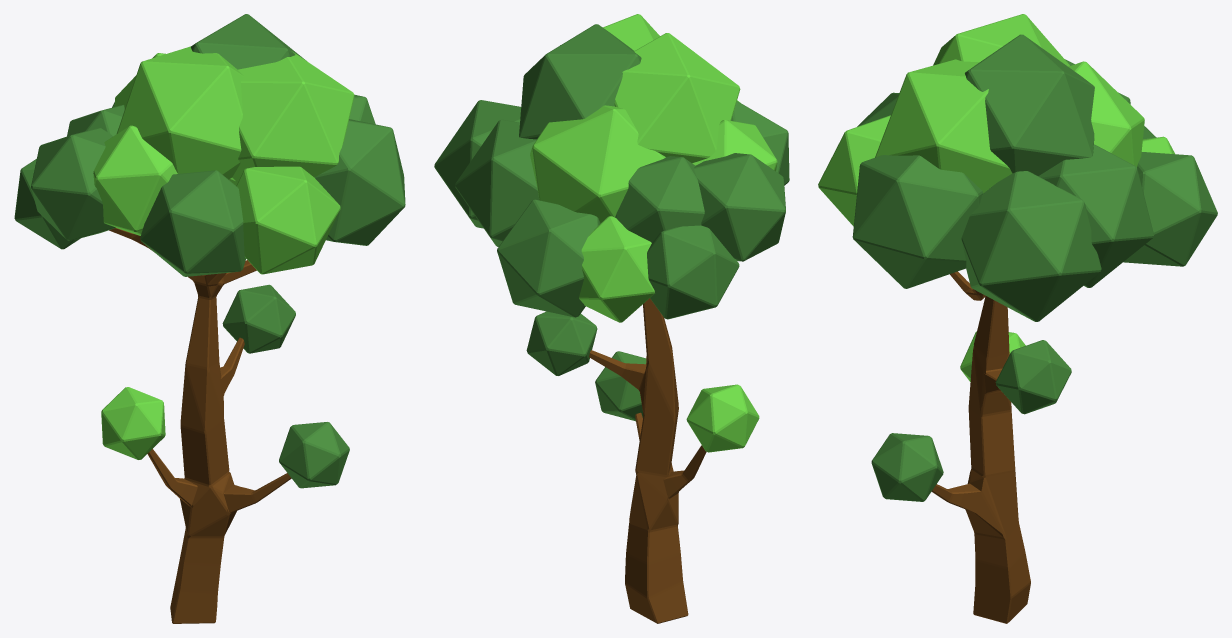
File: tree2.fbx
3 views of the same model, side by side, from view 1: azimuth 30°, elevation 25°; view 2: azimuth 150°, elevation 25°; view 3: azimuth 270°, elevation 25° (orthographic). The views are drawn at different scales.
Parts seen in each view (by area): view 1: tree; view 2: tree; view 3: tree.
Part boxes in pixels (bbox=[...]): tree: bbox=[14, 14, 405, 623]; tree: bbox=[434, 14, 789, 623]; tree: bbox=[818, 14, 1217, 623].
Bounding box in the file's own units: 1828 × 2884 × 1789.
